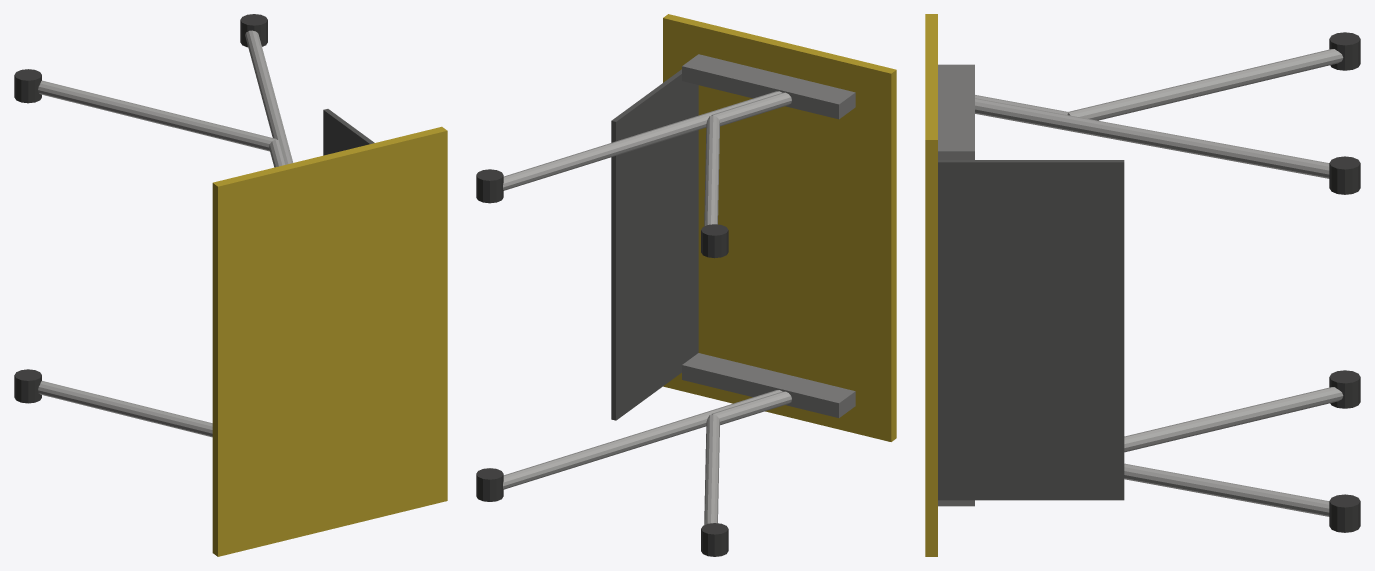
File: _room73b2-foldable-desk-bodyset2.glb
3 renders of one model, left to right at view 1: azimuth 30°, elevation 25°; view 2: azimuth 150°, elevation 25°; view 3: azimuth 270°, elevation 25°, orthographic. The views are drawn at different scales.
Bounding box in the file's own units: 0.5225 × 0.74 × 0.7.
